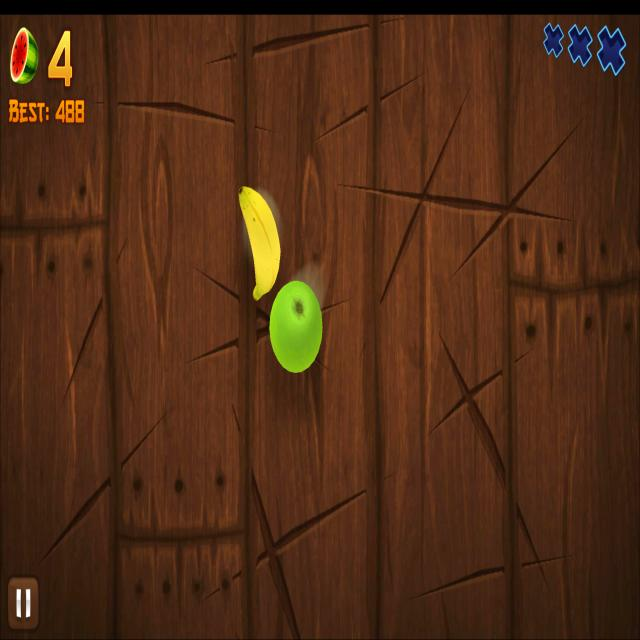fruit: (237, 185, 281, 301), (270, 281, 322, 372)
